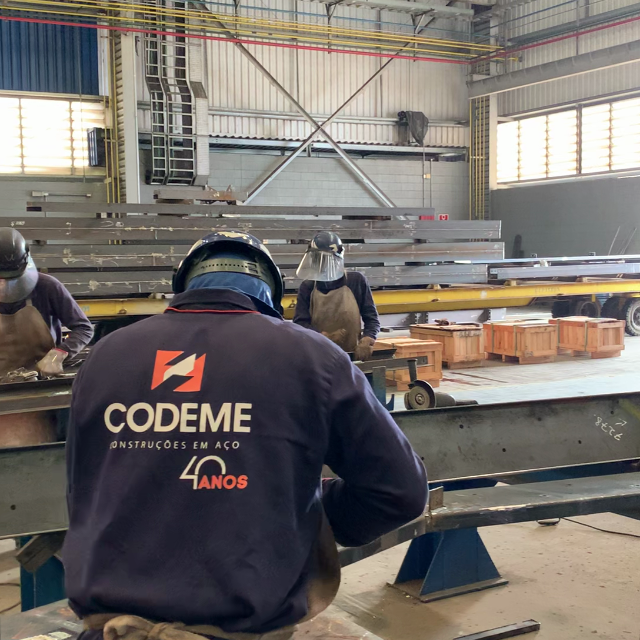face-shield: (295, 251, 345, 282)
glove: (37, 348, 72, 376)
helmet: (173, 230, 287, 307), (306, 232, 346, 255)
person: (64, 231, 428, 635), (1, 225, 94, 375), (292, 231, 386, 360)
